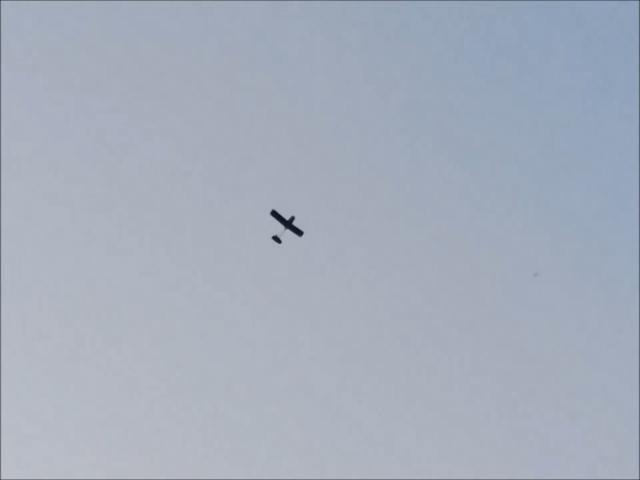insansiz-hava-araci: (270, 209, 304, 244)
